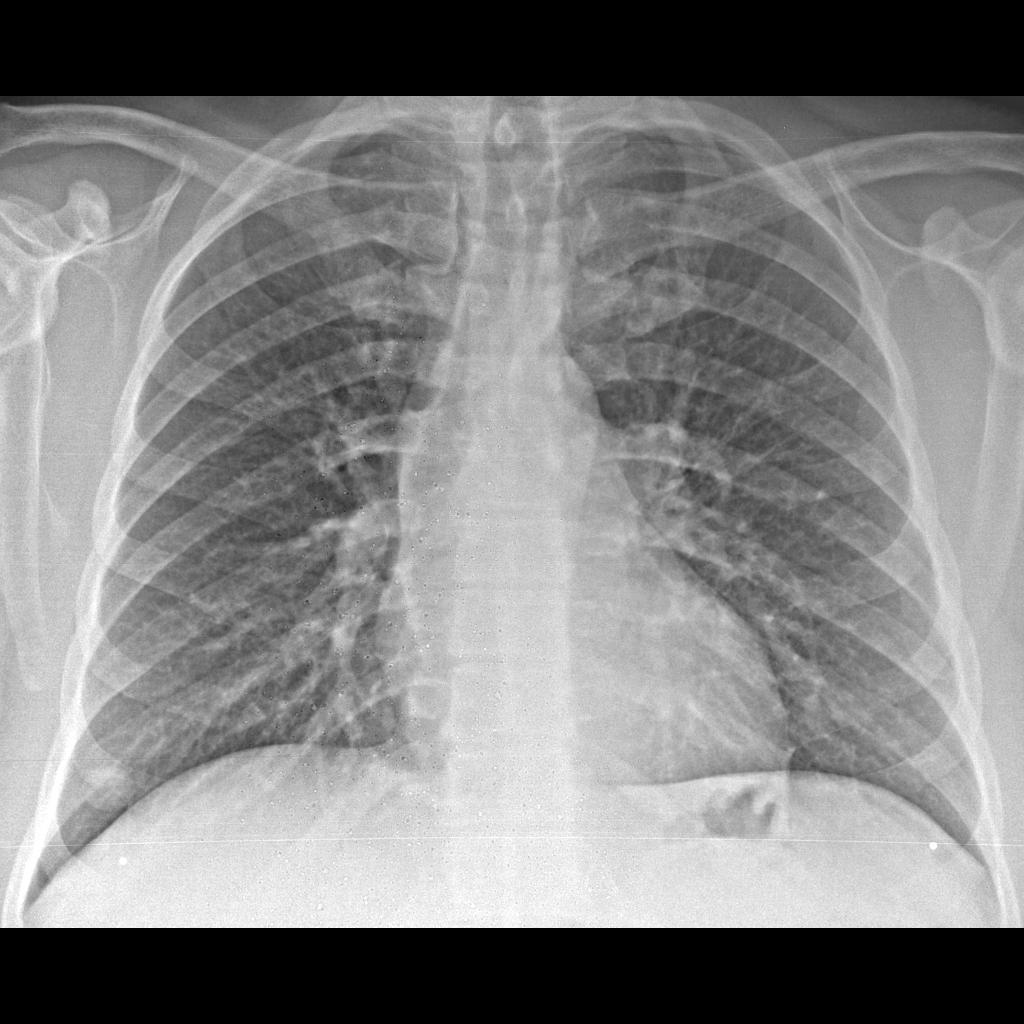Nodule: (79, 753, 134, 815)
